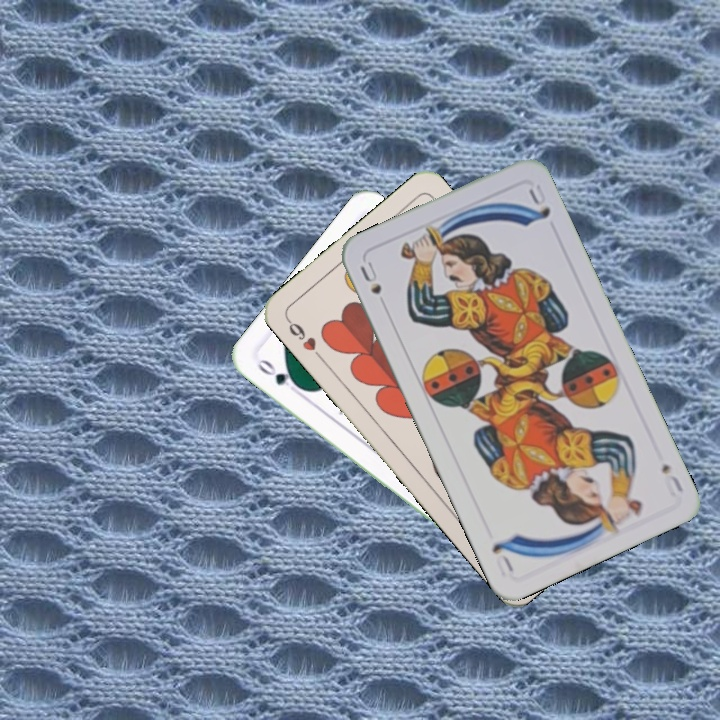GO: (253, 354, 305, 393)
H9: (282, 314, 326, 363)
SU: (657, 459, 686, 500), (356, 257, 384, 297)
